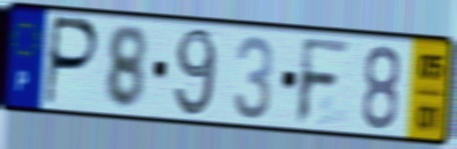3: (232, 33, 275, 121)
8: (103, 21, 150, 113), (360, 42, 402, 132)
9: (170, 25, 220, 120)
F: (293, 35, 354, 128)
P: (42, 13, 102, 110)
